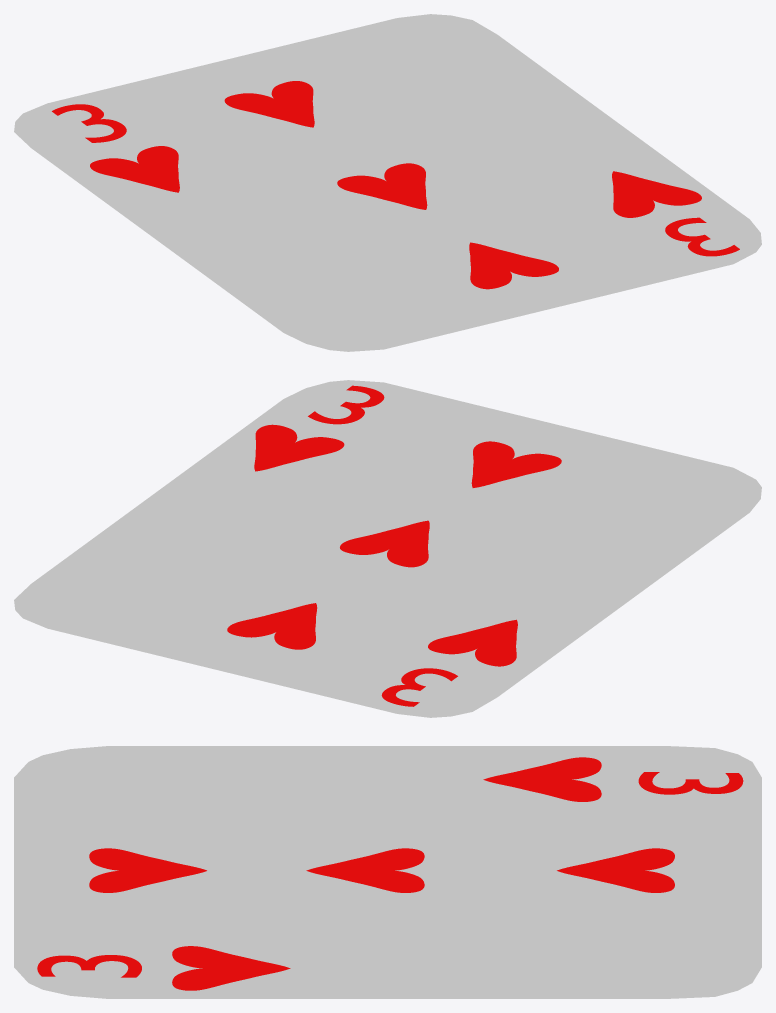
3 renders of one model, top to bottom at view 1: azimuth 30°, elevation 25°; view 2: azimuth 150°, elevation 25°; view 3: azimuth 270°, elevation 25°, orthographic. The views are drawn at different scales.
Visible parts, largest first — view 1: 3ofHearts, Plane.010_Red, Plane.009_Red, Plane.007_Red, Plane.006_Red, Plane.008_Red, Font.005_Bla_Blac.002, Font.006_Bla_Blac.002; view 2: 3ofHearts, Plane.008_Red, Plane.006_Red, Plane.009_Red, Plane.007_Red, Plane.010_Red, Font.005_Bla_Blac.002, Font.006_Bla_Blac.002; view 3: 3ofHearts, Plane.008_Red, Plane.006_Red, Plane.009_Red, Plane.010_Red, Plane.007_Red, Font.006_Bla_Blac.002, Font.005_Bla_Blac.002.
Part boxes in pixels (x1,y1,x2,y2): 3ofHearts: (14, 14, 761, 351); Plane.010_Red: (337, 163, 427, 209); Plane.009_Red: (224, 81, 314, 127); Plane.007_Red: (612, 171, 701, 217); Plane.006_Red: (90, 146, 179, 192); Plane.008_Red: (469, 242, 558, 289); Font.005_Bla_Blac.002: (52, 104, 126, 142); Font.006_Bla_Blac.002: (665, 217, 739, 256); 3ofHearts: (14, 380, 761, 717); Plane.008_Red: (471, 441, 561, 487); Plane.006_Red: (428, 619, 517, 666); Plane.009_Red: (227, 603, 317, 649); Plane.007_Red: (254, 424, 344, 471); Plane.010_Red: (340, 520, 429, 567); Font.005_Bla_Blac.002: (381, 668, 457, 706); Font.006_Bla_Blac.002: (308, 385, 384, 424); 3ofHearts: (14, 746, 761, 998); Plane.008_Red: (89, 848, 206, 892); Plane.006_Red: (483, 757, 601, 801); Plane.009_Red: (557, 848, 674, 892); Plane.010_Red: (306, 848, 424, 892); Plane.007_Red: (172, 946, 290, 990); Font.006_Bla_Blac.002: (37, 955, 141, 977); Font.005_Bla_Blac.002: (638, 772, 743, 794).
Bounding box in the file's own units: 1.6 × 0.00355 × 2.
